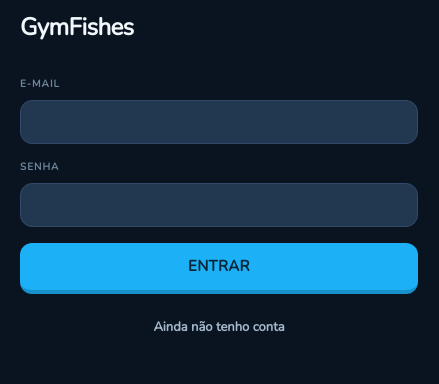
Test: Login › shows a pt-BR message when Supabase rejects the credentials
In the field labelled "E-mail": (219, 122) [20,100,418,144], type "leo@exemplo.com"
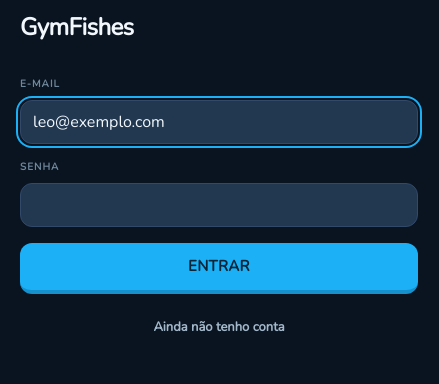
In the password field labelled "Senha": (219, 205) [20,183,418,227], type "senhaforte1"
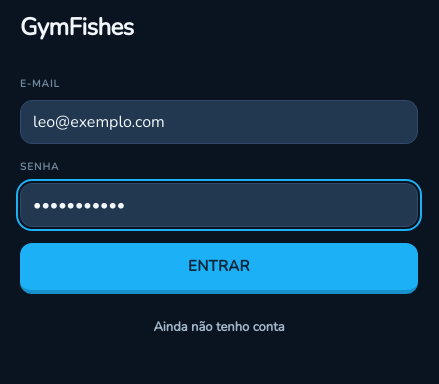
Click the button "Entrar": (219, 268) [20,243,418,294]
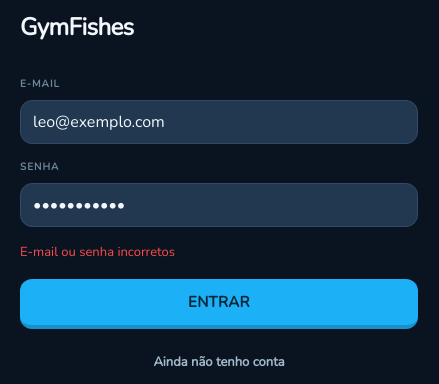
Expected: the text "E-mail ou senha incorretos" is shown, [20,243,175,261]
